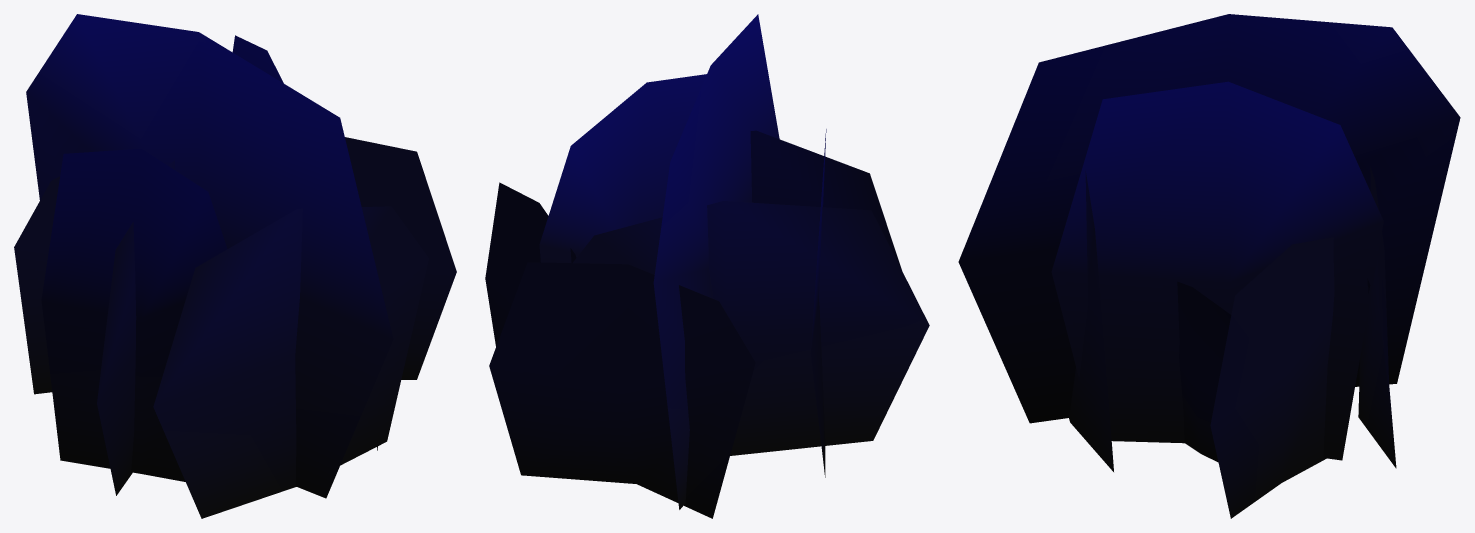
File: SM_Grass_M_Patch_M_01.fbx
3 renders of one model, left to right at view 1: azimuth 30°, elevation 25°; view 2: azimuth 150°, elevation 25°; view 3: azimuth 270°, elevation 25°, orthographic. The views are drawn at different scales.
Visible parts, largest first — view 1: SM_Grass_M_Patch_M_01; view 2: SM_Grass_M_Patch_M_01; view 3: SM_Grass_M_Patch_M_01.
Part boxes in pixels (x1,y1,x2,y2): SM_Grass_M_Patch_M_01: [14, 14, 456, 518]; SM_Grass_M_Patch_M_01: [485, 14, 929, 518]; SM_Grass_M_Patch_M_01: [958, 14, 1460, 518].
Size of the model in its own units: 151 by 159 by 139.
